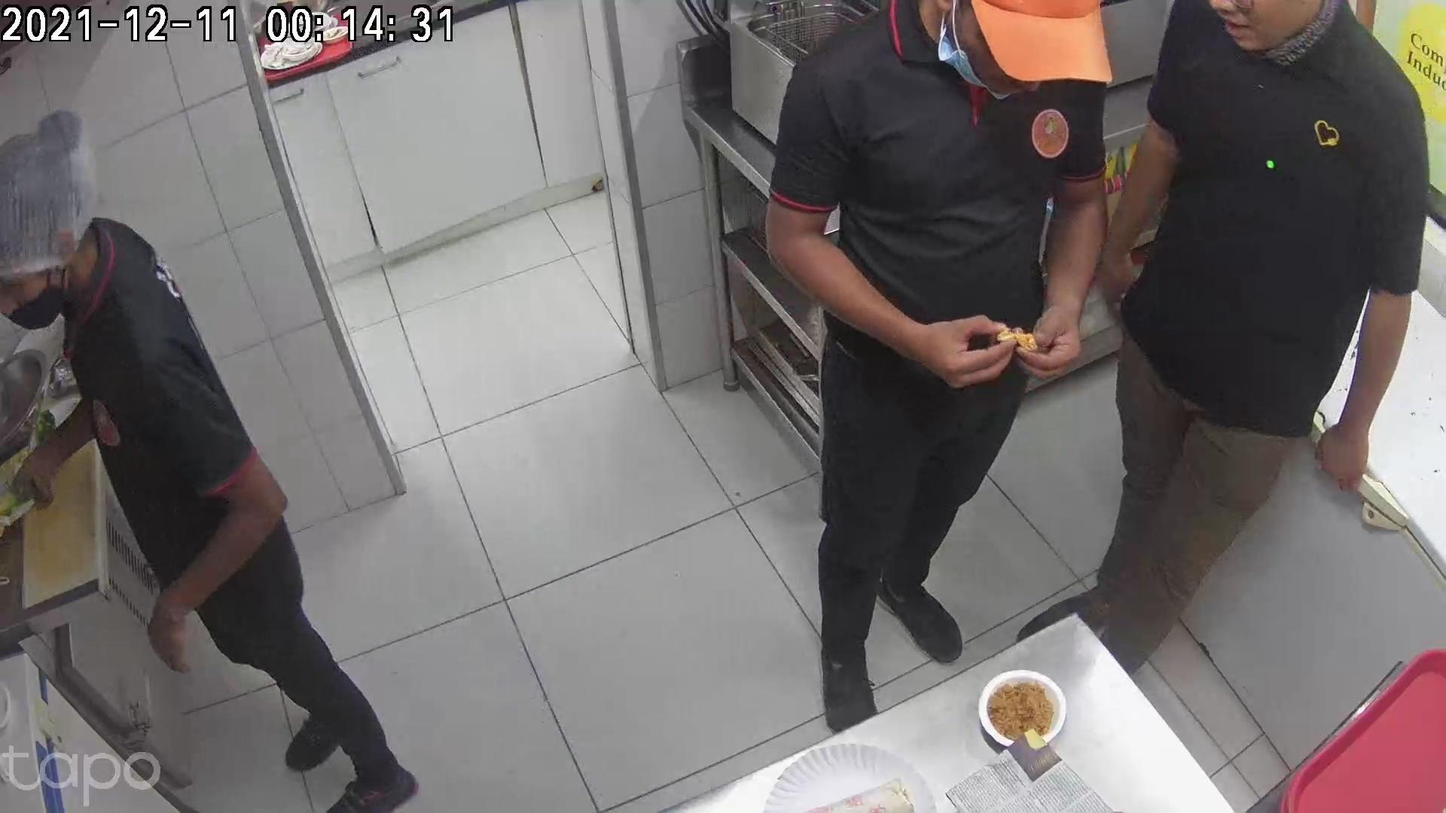gloves: (880, 622, 998, 743)
no_gloves: (1033, 592, 1115, 715)
